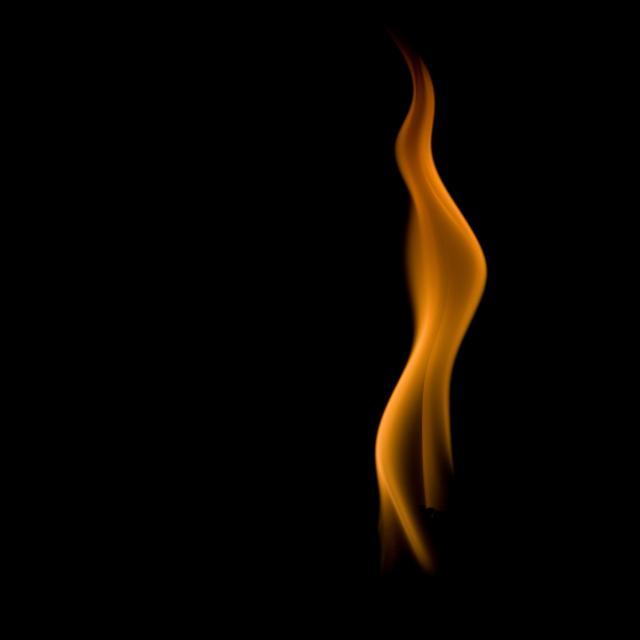Fire: (358, 28, 495, 581)
